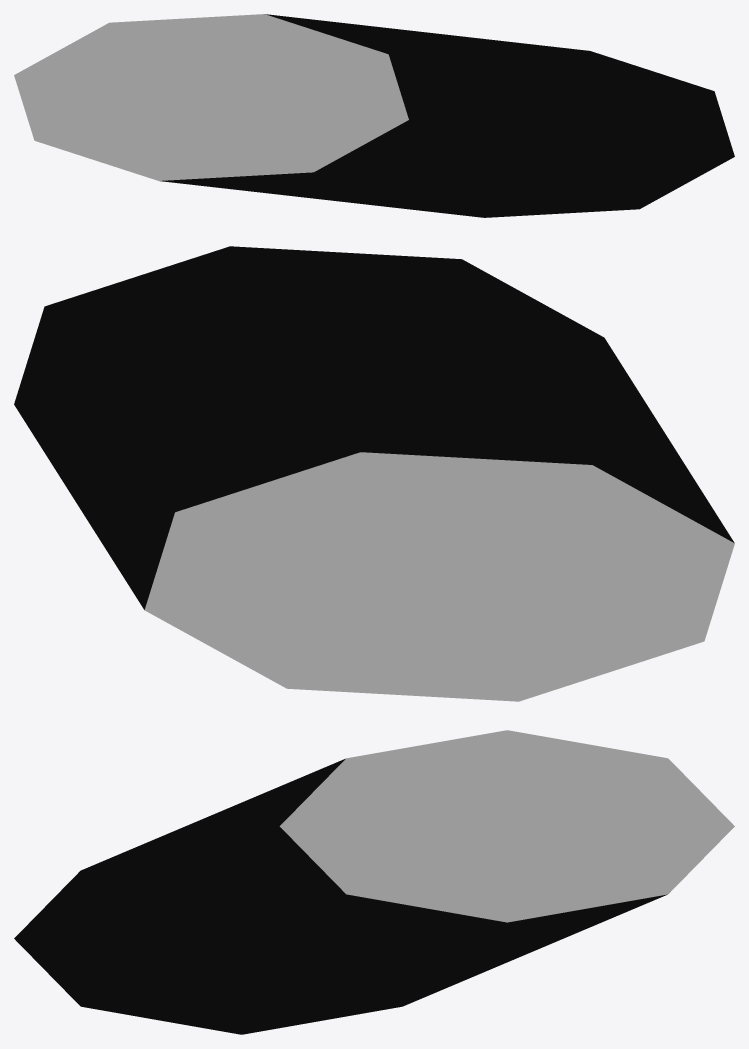
3 views of the same model, one above another, from view 1: azimuth 30°, elevation 25°; view 2: azimuth 150°, elevation 25°; view 3: azimuth 270°, elevation 25° (orthographic). The views are drawn at different scales.
Parts seen in each view (by area): view 1: Joint_0_Object_0; view 2: Joint_0_Object_0; view 3: Joint_0_Object_0.
Boxes of the visible parts, x1=… form: Joint_0_Object_0: x1=14, y1=14, x2=734, y2=217; Joint_0_Object_0: x1=14, y1=246, x2=734, y2=701; Joint_0_Object_0: x1=14, y1=730, x2=734, y2=1034.
Size of the model in its own units: 95 by 0 by 95.
